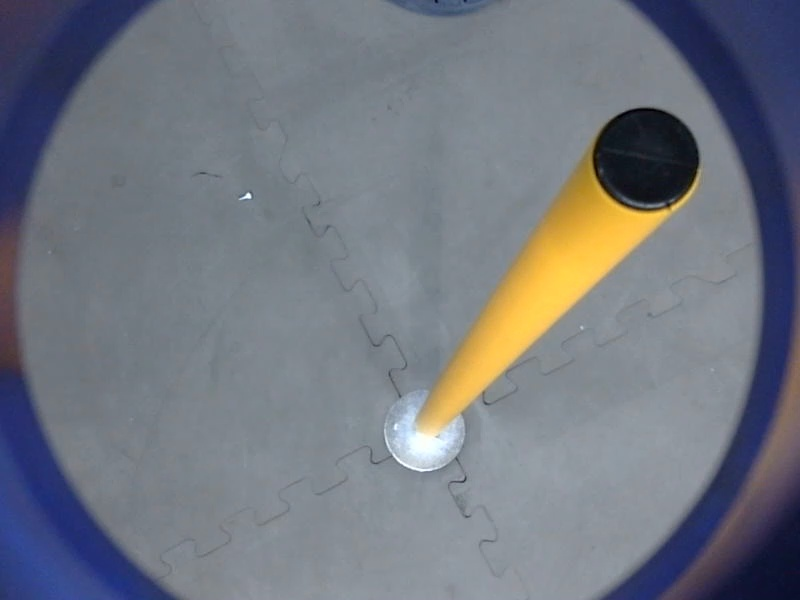tip: (588, 100, 707, 220)
